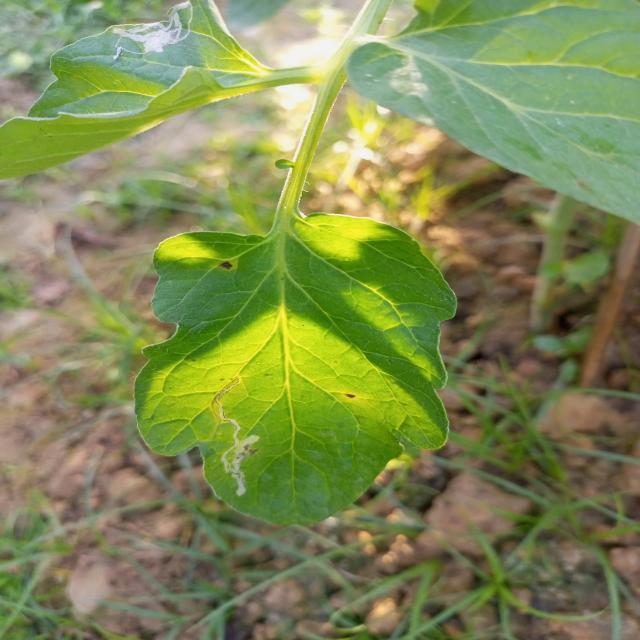Tuta absoluta: (211, 377, 267, 497)
